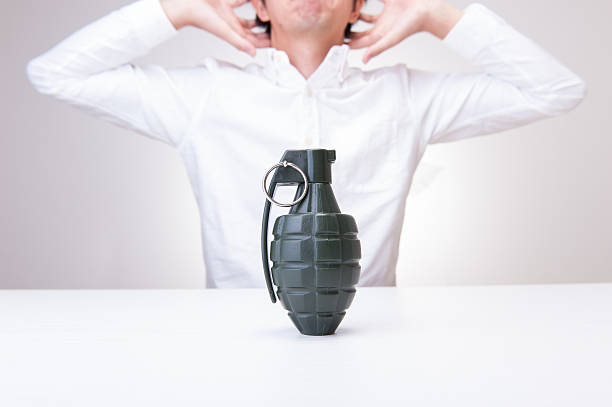e1: (262, 149, 362, 338)
